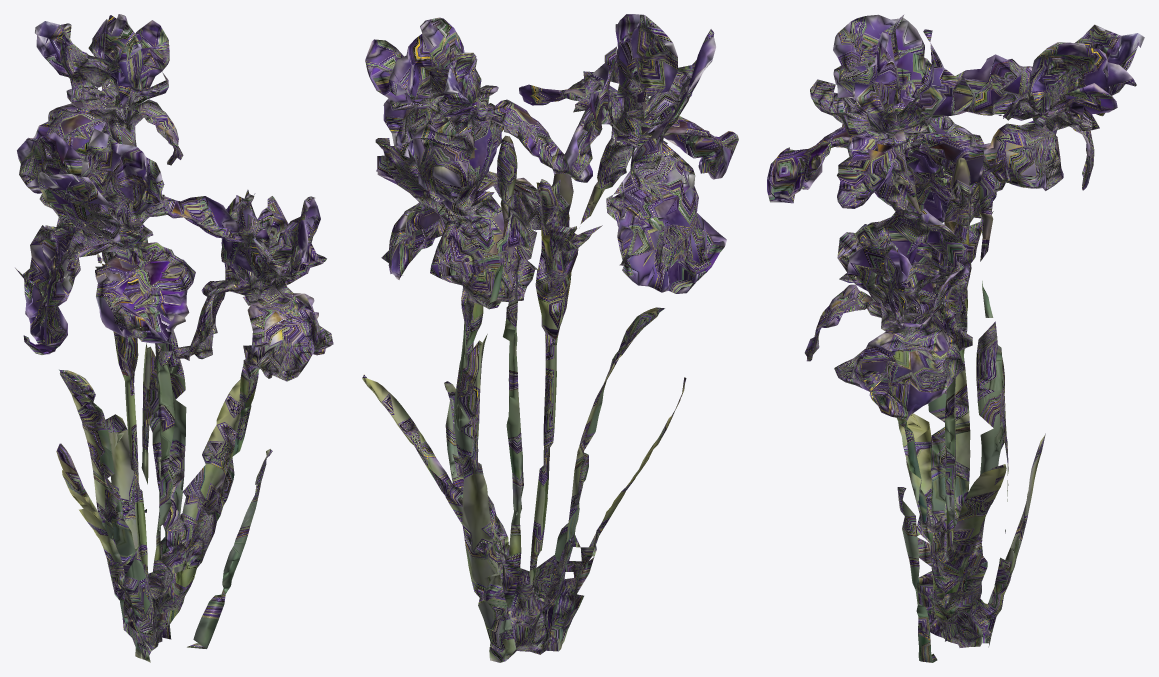
3 renders of one model, left to right at view 1: azimuth 30°, elevation 25°; view 2: azimuth 150°, elevation 25°; view 3: azimuth 270°, elevation 25°, orthographic. The views are drawn at different scales.
Size of the model in its own units: 0.9861 by 1.9 by 1.06.
Materials: 1 (1 with a texture image).
